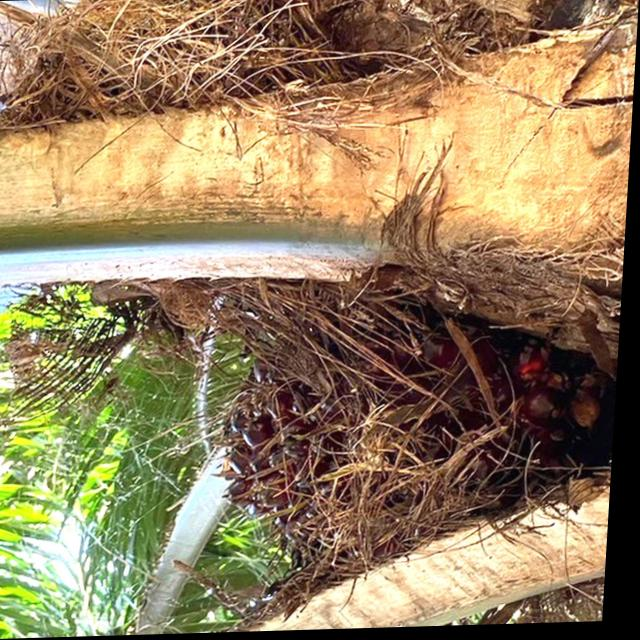ripe: (207, 293, 620, 582)
